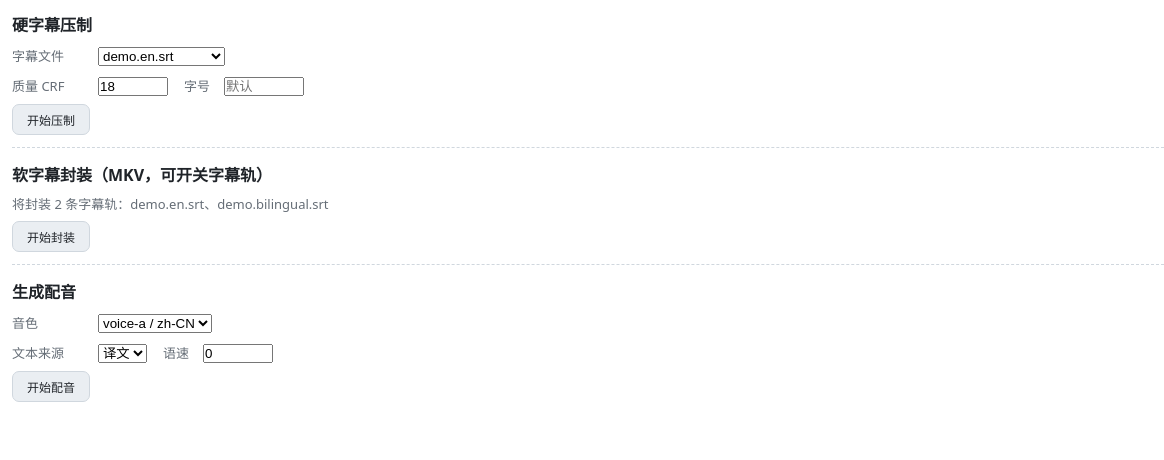
Scenario: MediaTools › 配音：用译文按时间轴生成，并显示时长与偏差
Click the button "开始配音" at coordinates (51, 386), box left=12, top=371, right=90, bottom=402
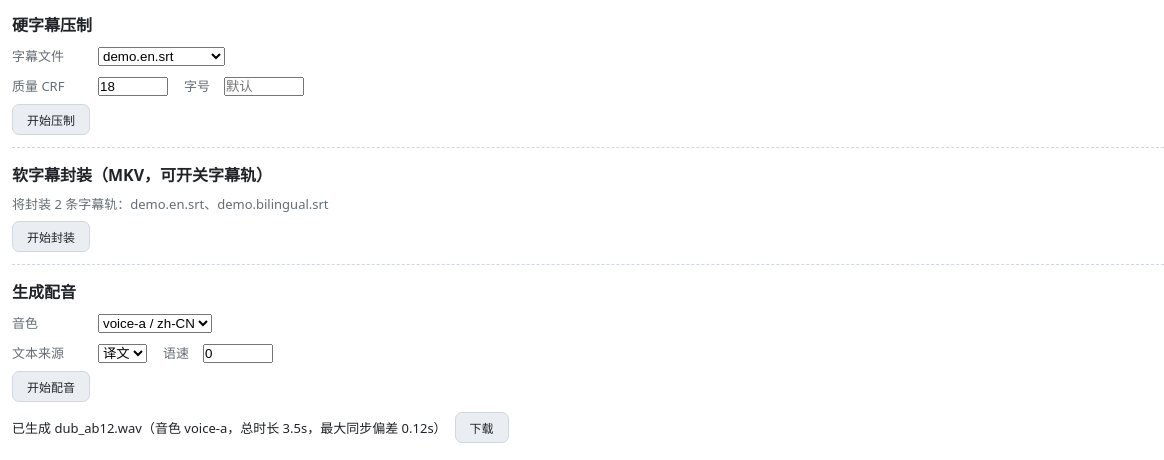
Result: the text "已生成 dub_ab12.wav（音色 voice-a，总时长 3.5s，最大同步偏差 0.12s） 下载" is shown at left=12, top=412, right=509, bottom=443
